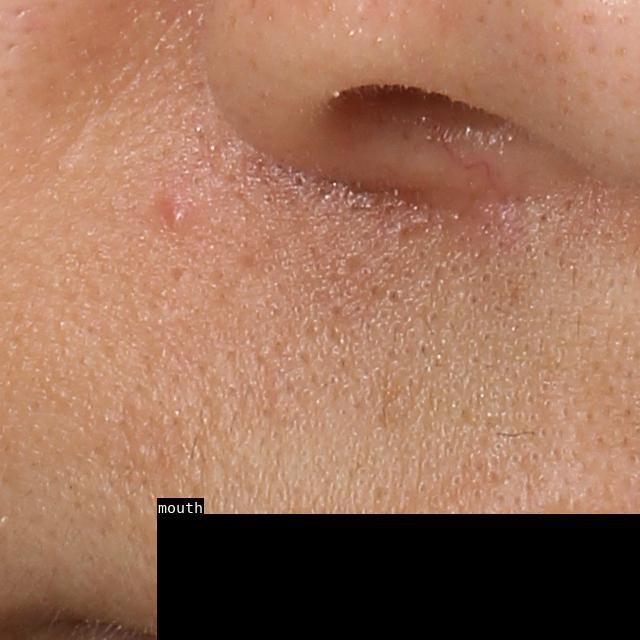papule: (157, 202, 196, 232)
